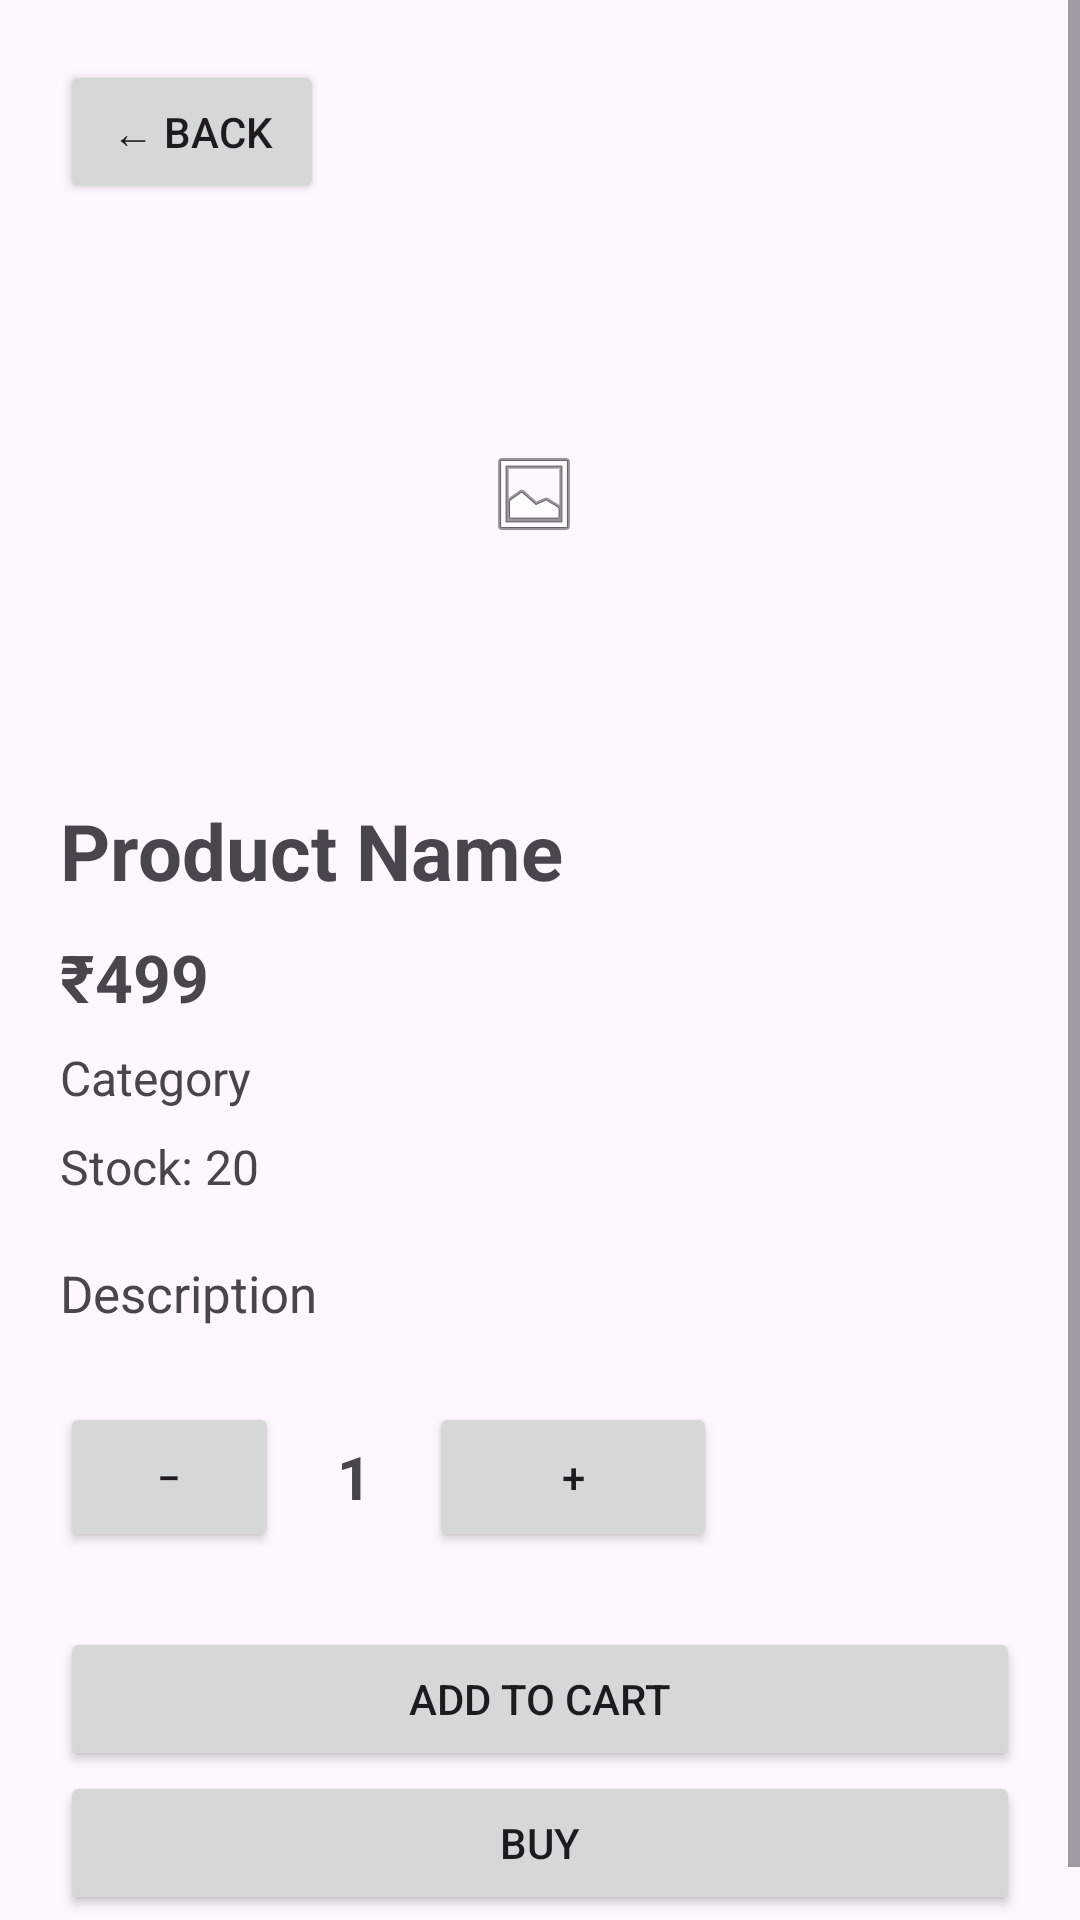

Locate icon controls on the screen. Image size 1080x1920, boxes as (x1, y1, x2, y2).
gallery: (498, 458, 570, 530)
